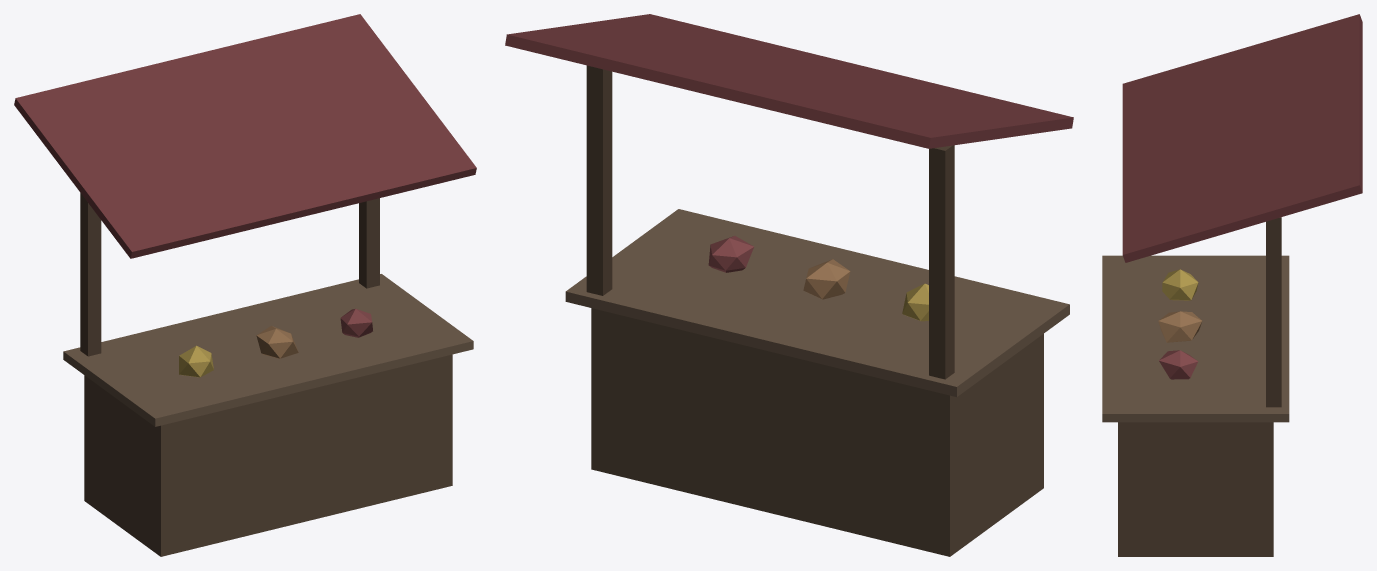
Rendered from market_stall.glb.
3 views of the same model, side by side, from view 1: azimuth 30°, elevation 25°; view 2: azimuth 150°, elevation 25°; view 3: azimuth 270°, elevation 25° (orthographic). The views are drawn at different scales.
Parts seen in each view (by area): view 1: market_stall; view 2: market_stall; view 3: market_stall.
Boxes of the visible parts, left/top/right/bottom form: market_stall: left=14, top=14, right=476, bottom=556; market_stall: left=505, top=14, right=1073, bottom=556; market_stall: left=1102, top=14, right=1362, bottom=556.
Bounding box in the file's own units: 2.6 × 2.73 × 1.67.
Materials: 1 (1 with a texture image).
